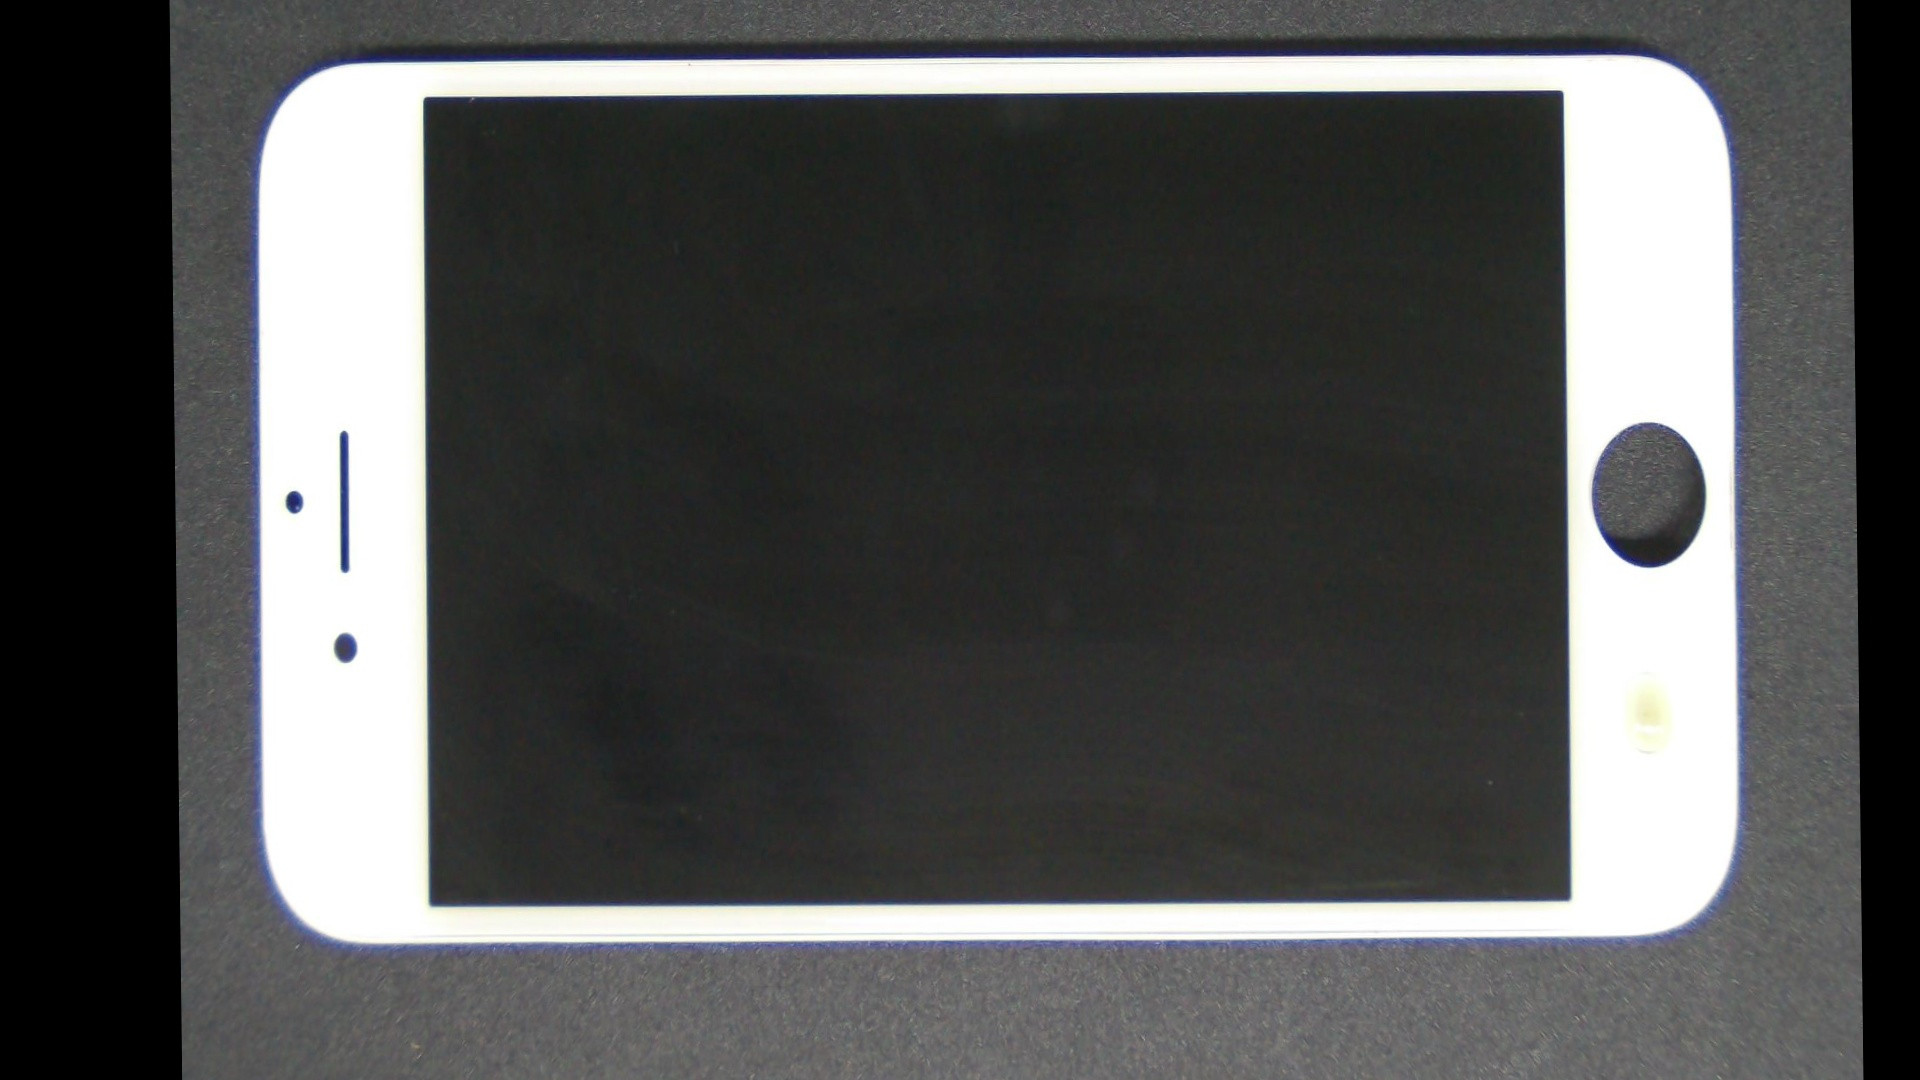oil: (905, 282, 1863, 1068)
